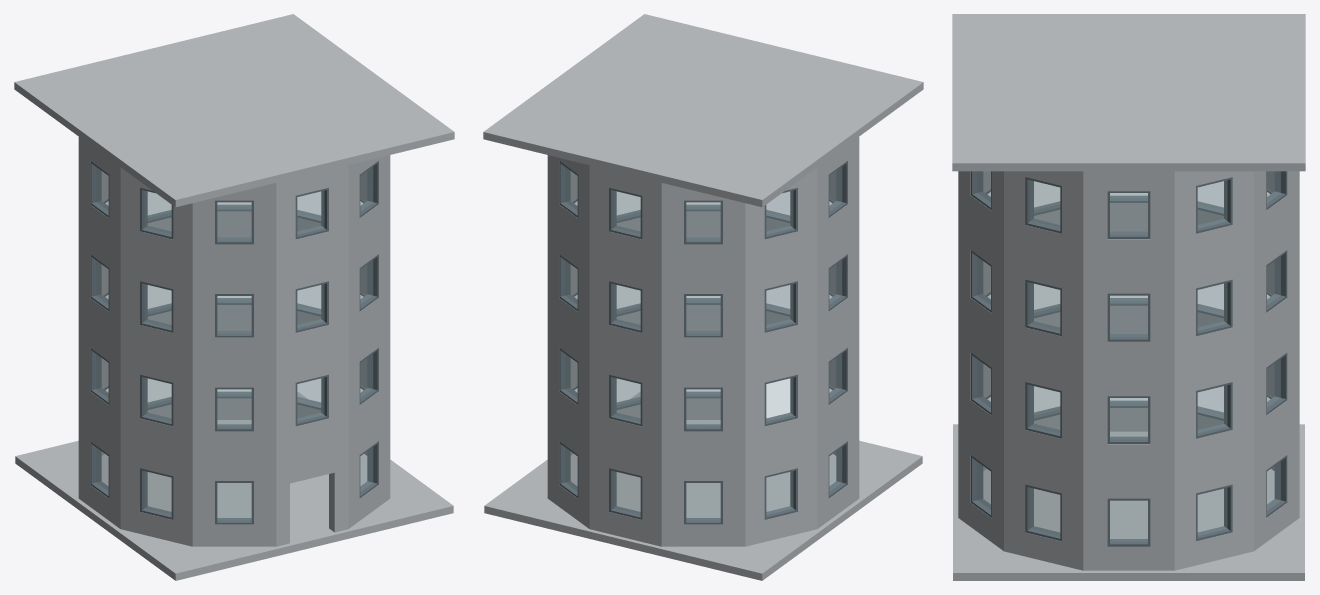
The model's file is tower_4_lod1.glb.
3 renders of one model, left to right at view 1: azimuth 30°, elevation 25°; view 2: azimuth 150°, elevation 25°; view 3: azimuth 270°, elevation 25°, orthographic. The views are drawn at different scales.
Parts seen in each view (by area): view 1: Ceiling baked, Wall_11 baked, Wall_0 baked, Wall_10 baked, Floor baked, Wall_9 baked, Wall_1 baked, Wall_5 baked, Glazing.043 baked, Glazing.044 baked, Glazing.045 baked, Glazing.046 baked (+11 smaller); view 2: Ceiling baked, Wall_7 baked, Wall_6 baked, Wall_8 baked, Floor baked, Wall_9 baked, Wall_5 baked, Wall_1 baked, Glazing.027 baked, Glazing.028 baked, Glazing.029 baked, Glazing.030 baked (+11 smaller); view 3: Ceiling baked, Wall_3 baked, Wall_2 baked, Wall_4 baked, Floor baked, Wall_1 baked, Wall_5 baked, Wall_9 baked, Glazing.012 baked, Glazing.014 baked, Glazing.011 baked, Glazing.013 baked (+30 smaller).
Boxes of the visible parts, box(x1,y1,x2,y2) form: Ceiling baked: box(14, 14, 454, 207); Wall_11 baked: box(192, 183, 276, 546); Wall_0 baked: box(276, 165, 348, 546); Wall_10 baked: box(120, 167, 192, 546); Floor baked: box(15, 391, 453, 580); Wall_9 baked: box(78, 137, 120, 528); Wall_1 baked: box(348, 155, 390, 528); Wall_5 baked: box(217, 211, 251, 419); Glazing.043 baked: box(217, 483, 251, 520); Glazing.044 baked: box(217, 389, 251, 426); Glazing.045 baked: box(217, 296, 251, 333); Glazing.046 baked: box(217, 202, 251, 239); Ceiling baked: box(483, 14, 923, 207); Wall_7 baked: box(661, 183, 745, 546); Wall_6 baked: box(589, 165, 661, 546); Wall_8 baked: box(745, 167, 817, 546); Floor baked: box(484, 391, 922, 580); Wall_9 baked: box(817, 137, 859, 528); Wall_5 baked: box(547, 155, 589, 528); Wall_1 baked: box(686, 211, 720, 419); Glazing.027 baked: box(686, 483, 720, 520); Glazing.028 baked: box(686, 389, 720, 426); Glazing.029 baked: box(686, 296, 720, 333); Glazing.030 baked: box(686, 202, 720, 239); Ceiling baked: box(952, 14, 1305, 171); Wall_3 baked: box(1083, 171, 1174, 570); Wall_2 baked: box(1004, 171, 1083, 570); Wall_4 baked: box(1174, 171, 1253, 570); Floor baked: box(953, 424, 1304, 580); Wall_1 baked: box(958, 171, 1003, 550); Wall_5 baked: box(1254, 171, 1299, 550); Wall_9 baked: box(1110, 203, 1147, 431); Glazing.012 baked: box(1110, 398, 1147, 439); Glazing.014 baked: box(1110, 193, 1147, 234); Glazing.011 baked: box(1110, 501, 1147, 541); Glazing.013 baked: box(1110, 296, 1147, 336).
Bounding box in the file's own units: 10 × 13.05 × 10.
